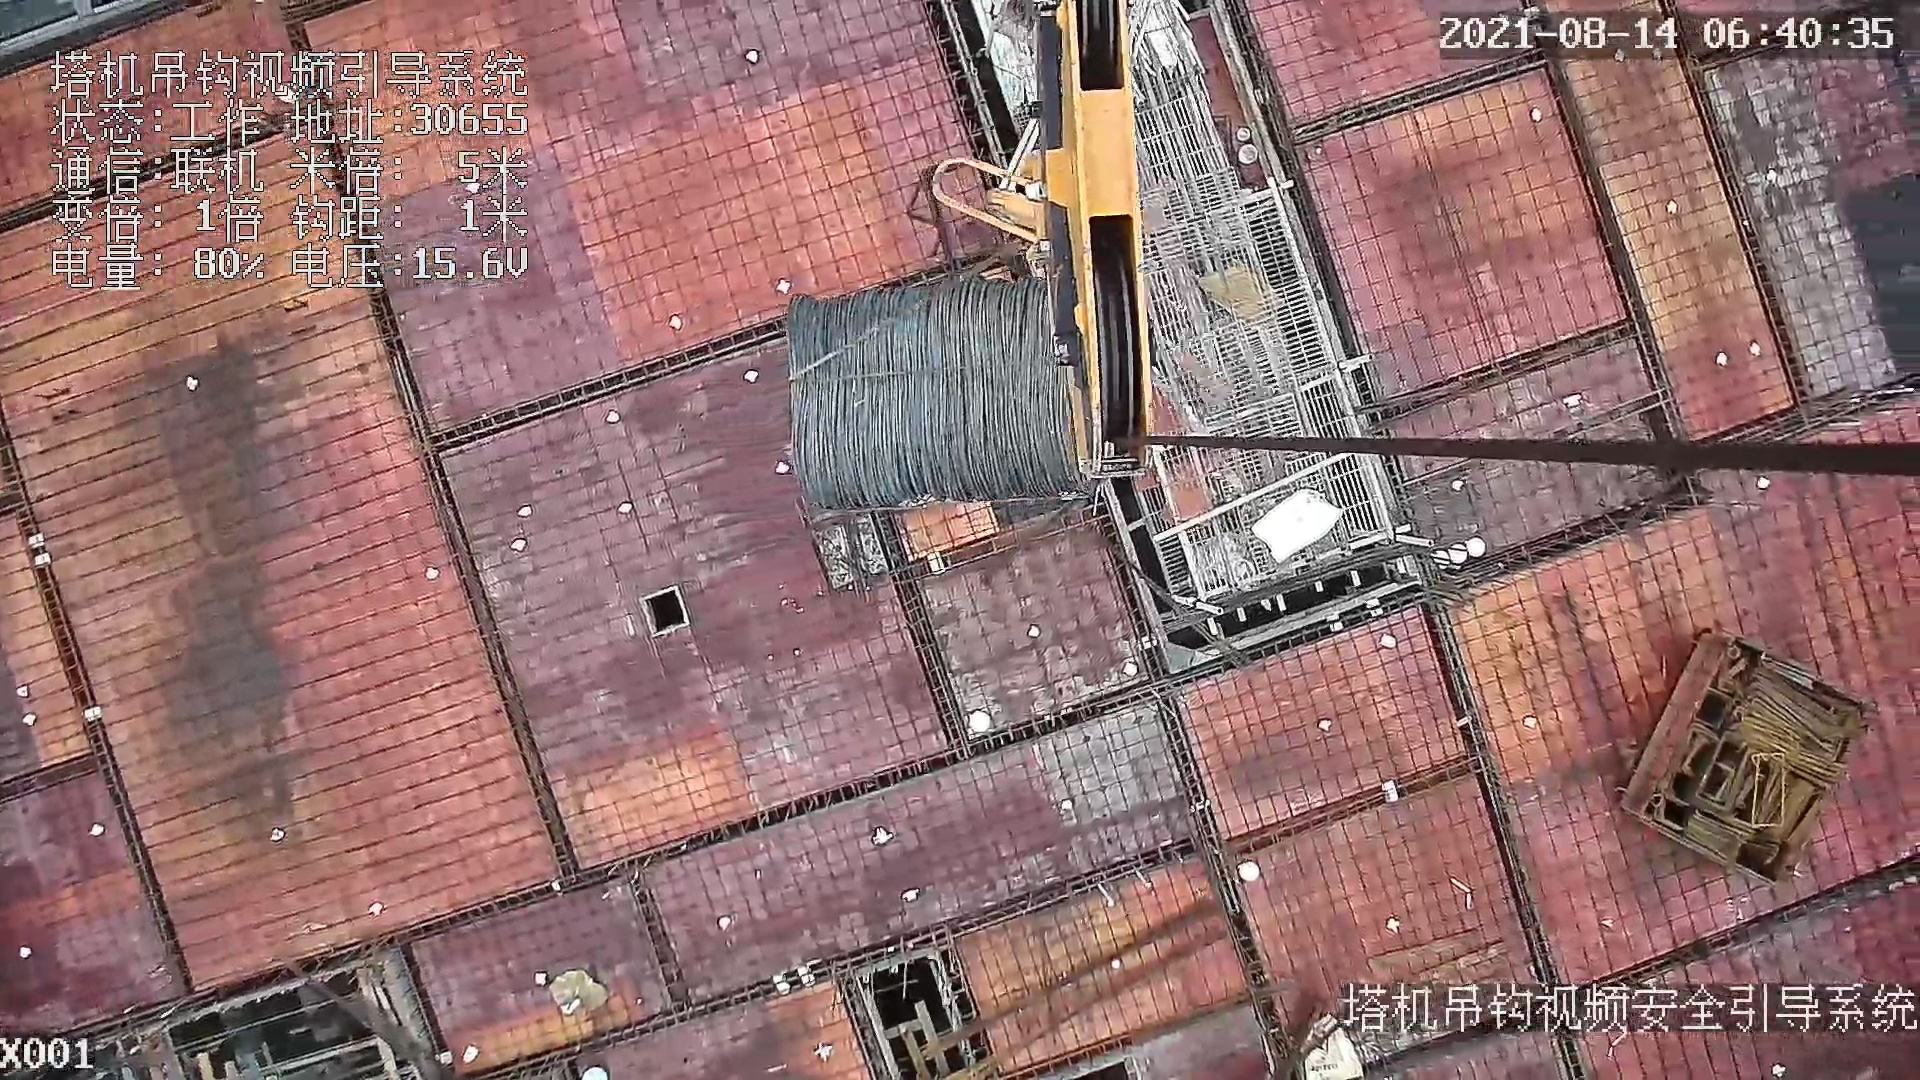hook: (931, 1, 1156, 485)
